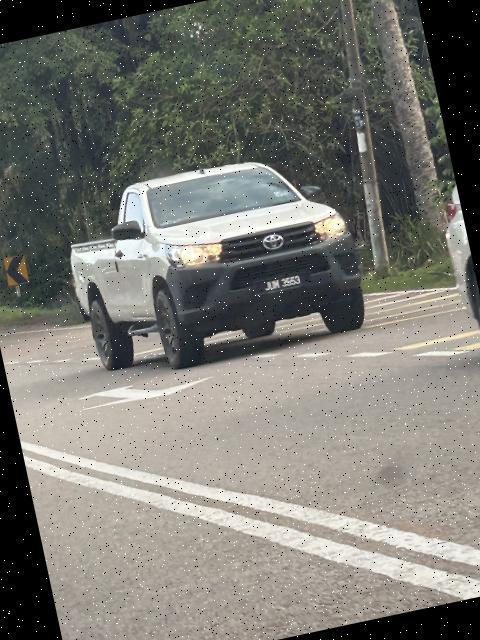JUM3553: (247, 267, 315, 300)
License_Plate: (247, 267, 315, 300)
car: (44, 135, 378, 398)
